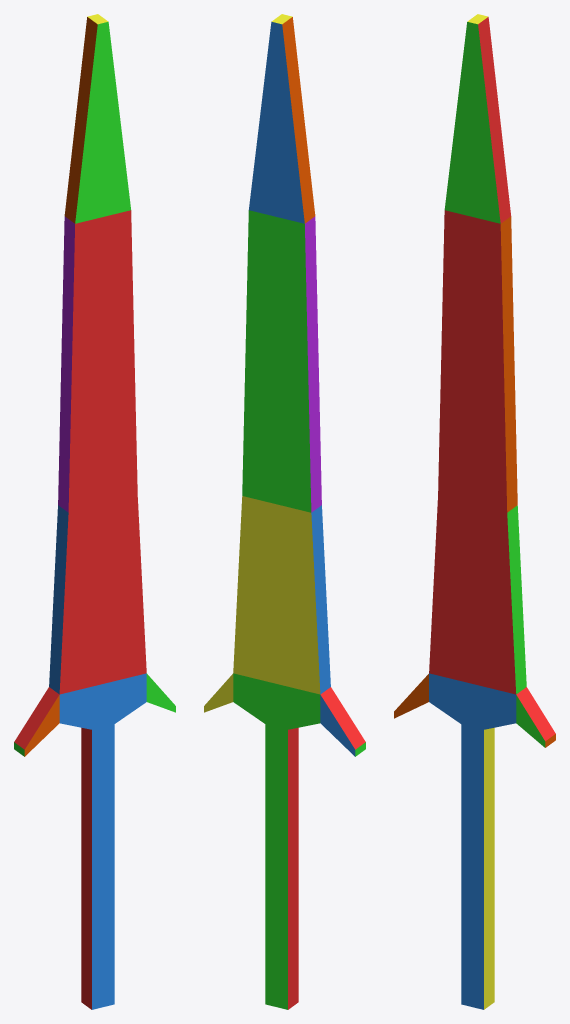
Rendered from sword.obj.
3 views of the same model, side by side, from view 1: azimuth 30°, elevation 25°; view 2: azimuth 150°, elevation 25°; view 3: azimuth 330°, elevation 25° (orthographic).
Visible parts, largest first — view 1: model; view 2: model; view 3: model.
Part boxes in pixels (bbox=[...]): model: bbox=[14, 14, 175, 1009]; model: bbox=[204, 14, 365, 1009]; model: bbox=[394, 14, 555, 1009].
Bounding box in the file's own units: 0.2082 × 1.3 × 0.0252.
